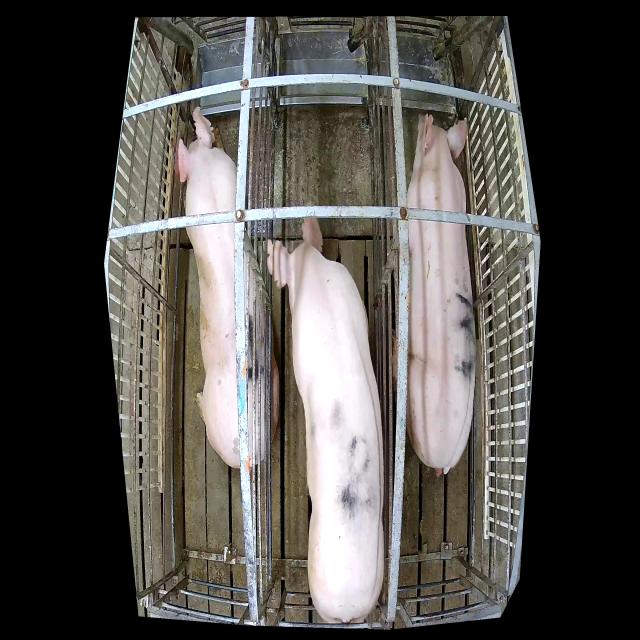pig: (267, 218, 384, 624), (174, 107, 279, 467), (406, 113, 476, 476)
